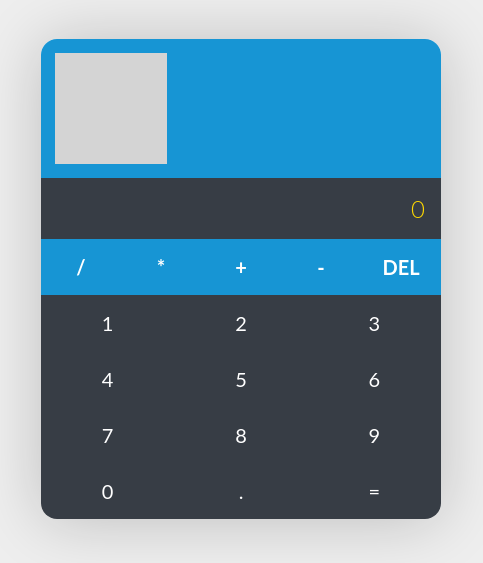
Scenario: checks if sum functionality works
What coordinates should you click on to do the following:
click the button "2"
I would click on:
 (241, 323)
Its box is [174, 295, 308, 351].
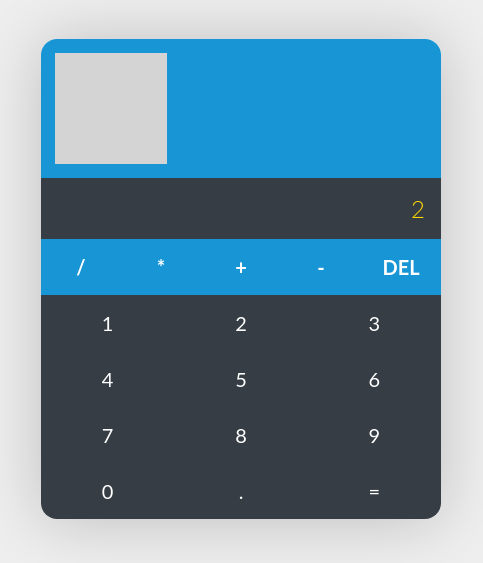
What coordinates should you click on to do the following:
click the button "+"
I would click on:
 (241, 267)
Its box is [201, 239, 281, 295].
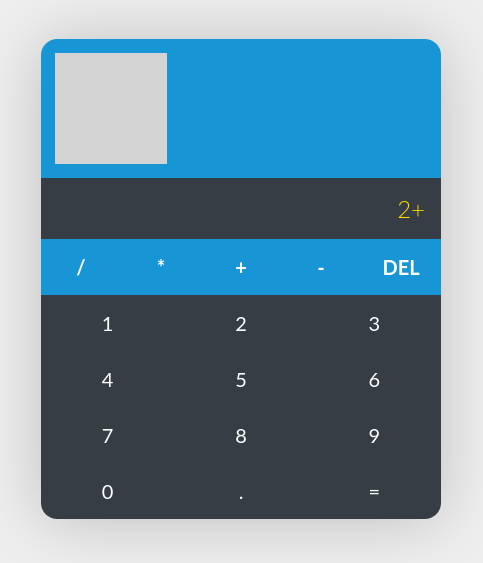
What coordinates should you click on to do the following:
click the button "2"
I would click on:
 (241, 323)
Its box is [174, 295, 308, 351].
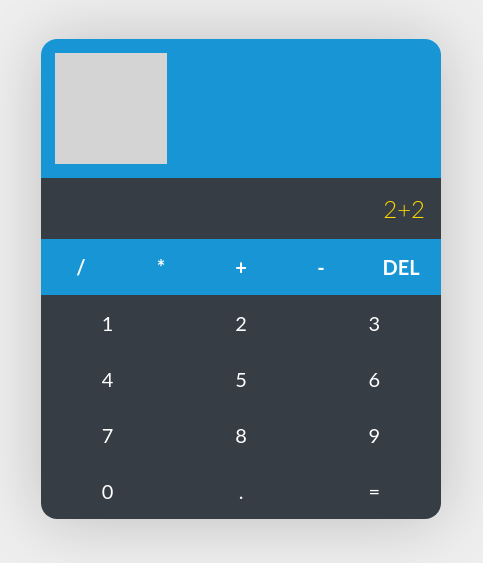
What coordinates should you click on to do the following:
click the button "="
I would click on:
 (374, 491)
Its box is [308, 463, 441, 519].
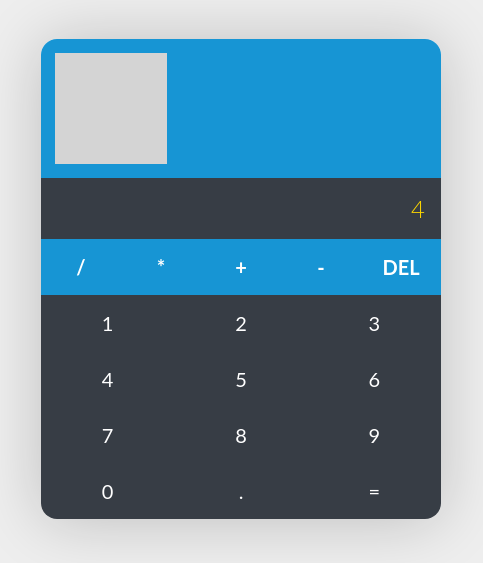
Check: the text with class "display" reads "4", box [411, 194, 425, 223]
